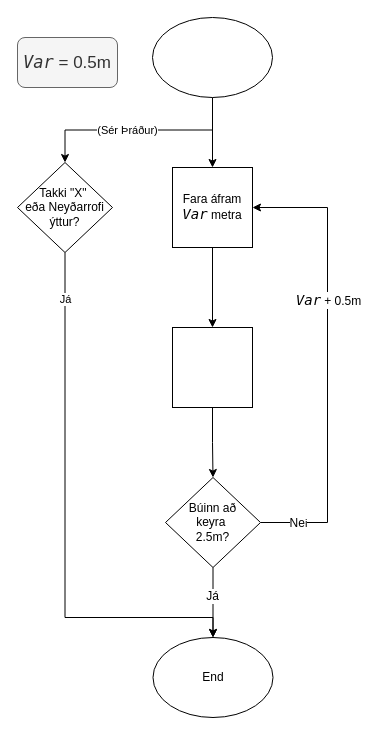
Some shapes in this 378 by 735 pixel diagram are drawn without their labels. Each missing label, with the centre of its shape:
"Fara aftur Var metra" belongs at (212,367).
"Start" belongs at (212,57).
